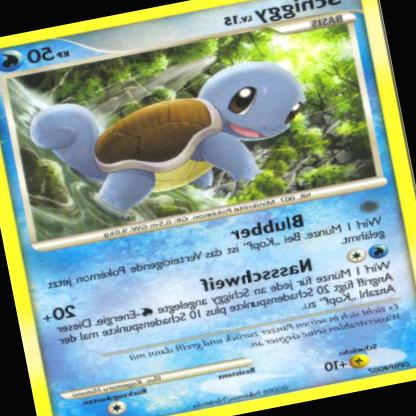Squirtle: (20, 45, 328, 232)
